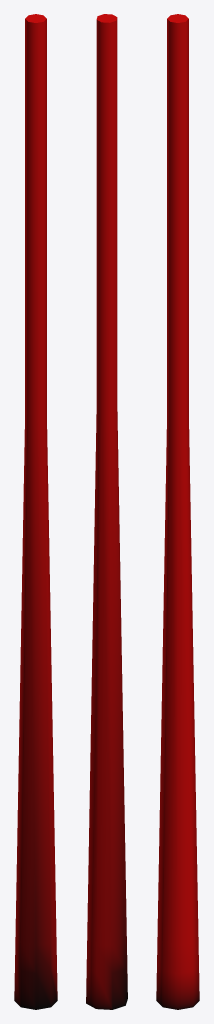
File: Flagpole_1_export.obj
3 renders of one model, left to right at view 1: azimuth 90°, elevation 25°; view 2: azimuth 150°, elevation 25°; view 3: azimuth 270°, elevation 25°, orthographic.
Parts seen in each view (by area): view 1: Flagpole_1; view 2: Flagpole_1; view 3: Flagpole_1.
Boxes of the visible parts, x1,y1,x2,y2 form: Flagpole_1: [14, 14, 57, 1009]; Flagpole_1: [86, 14, 127, 1009]; Flagpole_1: [156, 14, 199, 1009].
Bounding box in the file's own units: 0.2 × 5 × 0.2.
